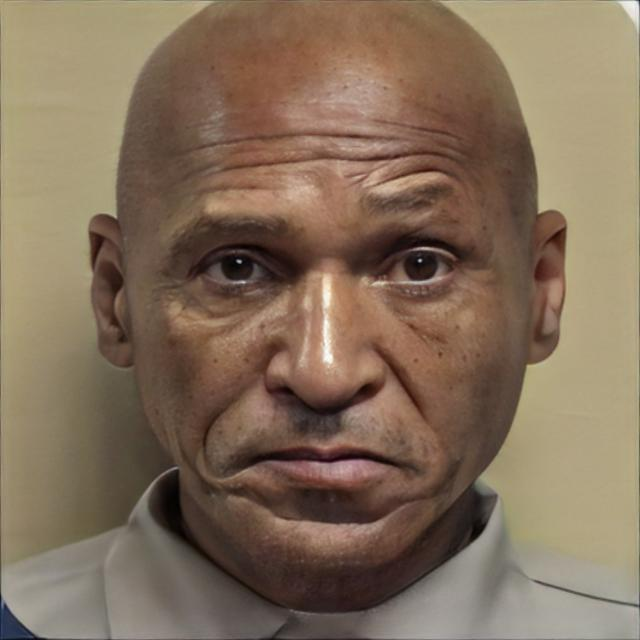sad: (131, 42, 529, 584)
